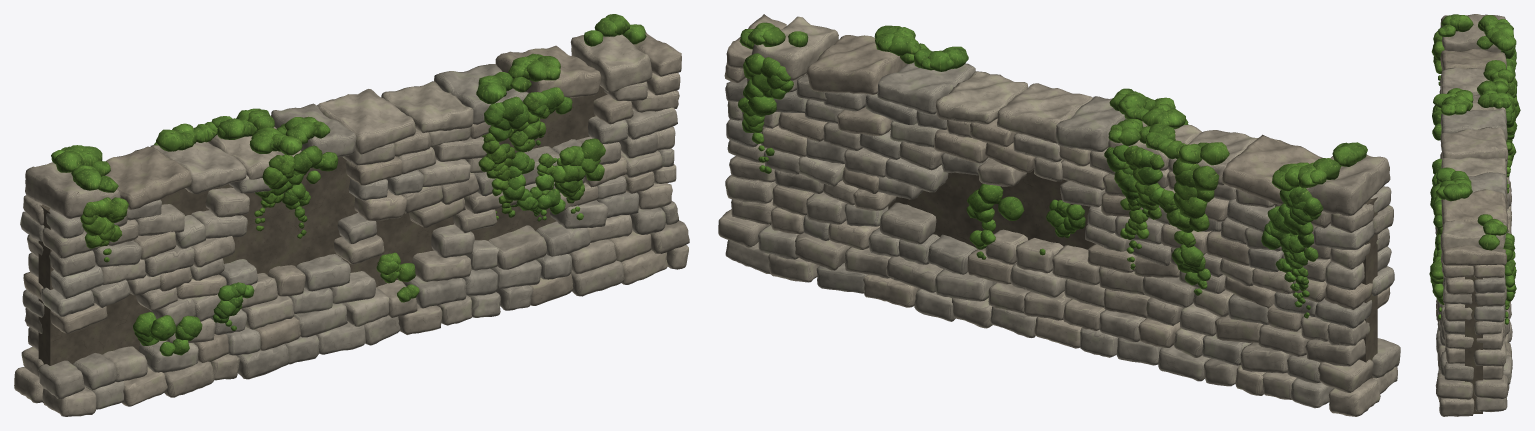
Rendered from medieval_wall.glb.
3 views of the same model, side by side, from view 1: azimuth 30°, elevation 25°; view 2: azimuth 150°, elevation 25°; view 3: azimuth 270°, elevation 25° (orthographic). The views are drawn at different scales.
Parts seen in each view (by area): view 1: mortar_core, stone_273, stone_269, moss_15, stone_277, stone_274, moss_12, stone_268, stone_270, stone_276, moss_16, moss_14 (+110 smaller); view 2: mortar_core, moss_11, moss_19, stone_276, stone_269, moss_20, stone_273, stone_274, moss_17, stone_275, stone_268, moss_13 (+121 smaller); view 3: stone_273, stone_276, moss_19, stone_272, stone_278, stone_277, stone_269, stone_268, mortar_core, stone_270, stone_274, moss_12 (+38 smaller).
Part boxes in pixels (x1,y1,x2,y2): mortar_core: (38, 86, 607, 402); stone_273: (317, 89, 415, 154); stone_269: (105, 146, 191, 209); moss_15: (273, 116, 338, 238); stone_277: (570, 34, 652, 92); stone_274: (381, 81, 473, 132); moss_12: (71, 165, 128, 262); stone_268: (25, 162, 120, 218); stone_270: (150, 142, 246, 193); stone_276: (495, 45, 601, 97); moss_16: (249, 127, 302, 231); moss_14: (508, 59, 564, 195); mortar_core: (770, 73, 1377, 378); moss_11: (1157, 140, 1229, 273); moss_19: (738, 22, 808, 173); stone_276: (807, 35, 907, 94); stone_269: (1222, 134, 1322, 204); moss_20: (1283, 158, 1340, 318); stone_273: (997, 83, 1092, 143); stone_274: (936, 71, 1028, 124); moss_17: (1108, 118, 1174, 269); stone_275: (877, 62, 975, 114); stone_268: (1306, 155, 1390, 216); moss_13: (1104, 120, 1175, 222); stone_273: (1440, 127, 1508, 160); stone_276: (1441, 189, 1508, 230); moss_19: (1477, 214, 1516, 324); stone_272: (1440, 109, 1507, 140); stone_278: (1441, 245, 1506, 265); stone_277: (1440, 220, 1507, 250); stone_269: (1440, 48, 1506, 70); stone_268: (1440, 14, 1505, 52); mortar_core: (1465, 266, 1482, 413); stone_270: (1440, 68, 1489, 95); stone_274: (1441, 157, 1506, 176); moss_12: (1431, 14, 1473, 85).
Size of the model in its own units: 10.82 by 3.96 by 1.76.
3 materials, 3 textured.
